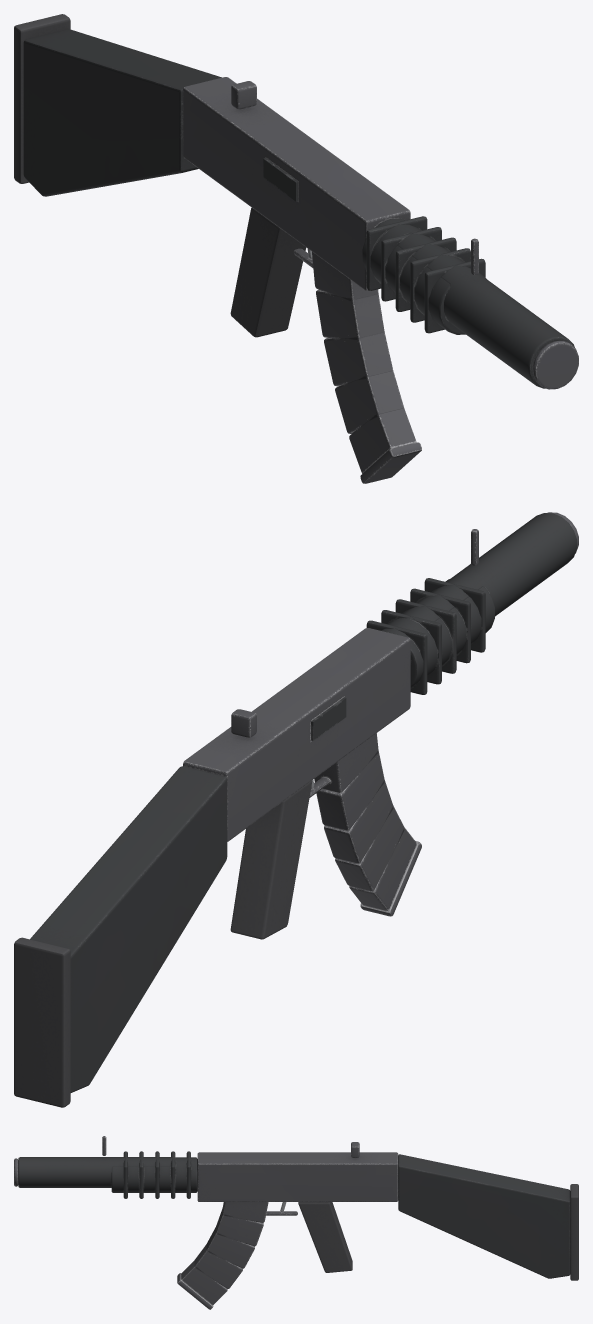
The picture shows the model from 3 angles, top to bottom: view 1: azimuth 30°, elevation 25°; view 2: azimuth 150°, elevation 25°; view 3: azimuth 270°, elevation 25°; orthographic projection. The views are drawn at different scales.
Parts seen in each view (by area): view 1: mp5sd; view 2: mp5sd; view 3: mp5sd.
Part boxes in pixels (left/top/right/bottom): mp5sd: left=14, top=14, right=578, bottom=483; mp5sd: left=14, top=512, right=578, bottom=1107; mp5sd: left=14, top=1136, right=578, bottom=1309.
Bounding box in the file's own units: 0.052 × 0.2616 × 0.788.
